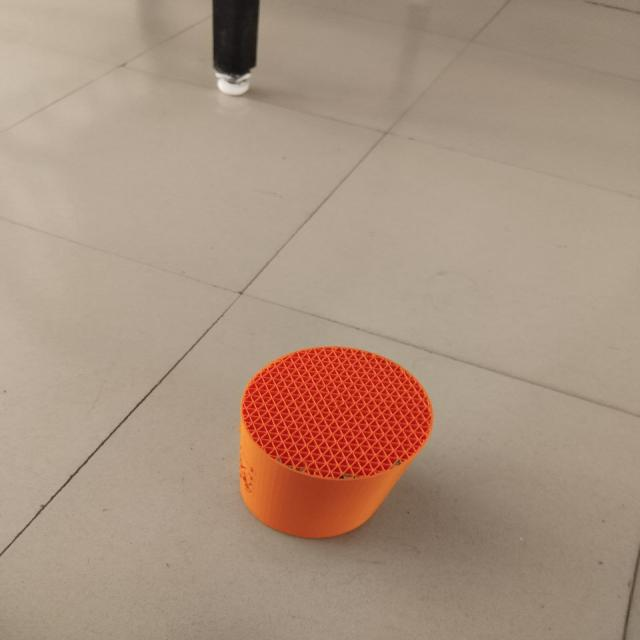Cylinder: (237, 345, 433, 539)
